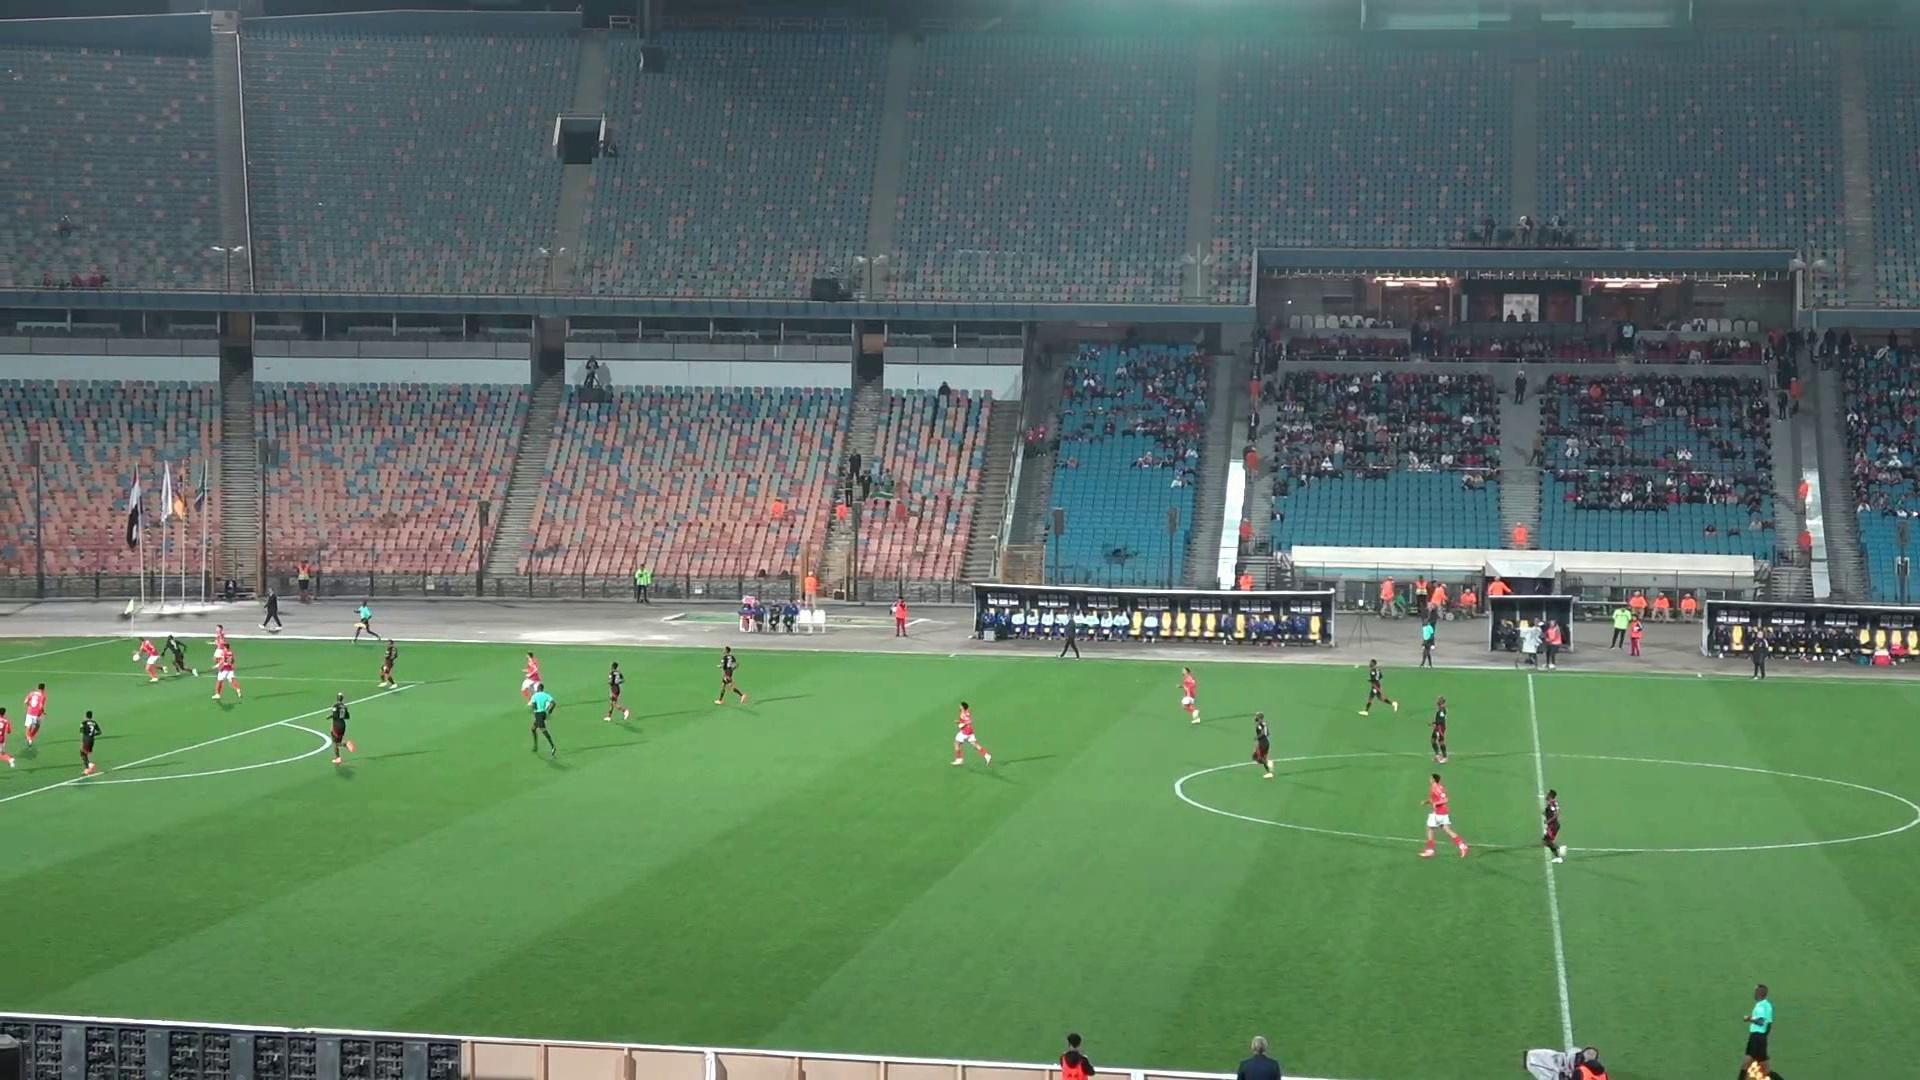Ball: (131, 650, 148, 665)
Refree: (1735, 984, 1782, 1079), (527, 683, 558, 756), (1420, 609, 1439, 667), (353, 603, 378, 640)
Team1: (1420, 773, 1469, 857), (952, 702, 990, 765), (212, 634, 240, 699), (132, 637, 162, 682), (25, 682, 46, 745), (520, 651, 545, 702), (212, 625, 233, 678), (1180, 667, 1200, 723), (0, 707, 15, 767)
Team2: (1360, 661, 1398, 713), (713, 646, 746, 704), (327, 692, 353, 764), (1542, 789, 1567, 860), (603, 662, 630, 720), (79, 709, 102, 775), (1251, 712, 1273, 777), (1429, 696, 1449, 764), (161, 636, 195, 673), (378, 640, 398, 688)
